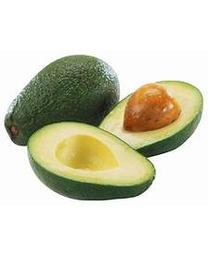avocado: (4, 55, 120, 147), (26, 121, 156, 201), (94, 80, 204, 161)
